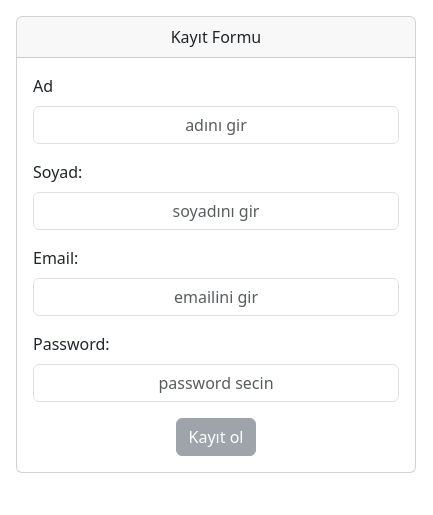
Test case: register sayfasi › error messages › Email input throws error for emre@wit.edu.tr
Type "em" into the field with test id "email-input" at point(216, 297), box [33,278,399,316]
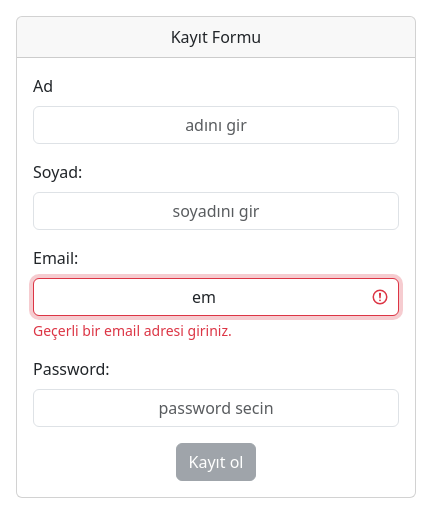
expect the text "Geçerli bir email adresi giriniz." is shown: met, box [33,321,232,340]
